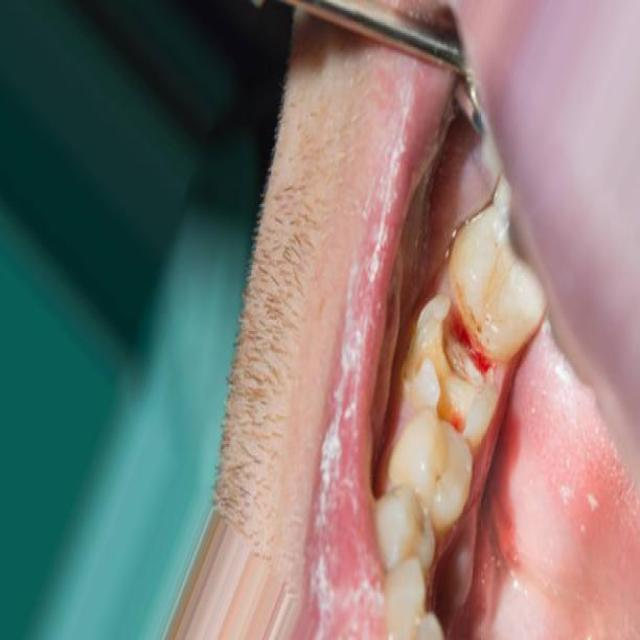caries: (407, 298, 501, 449)
